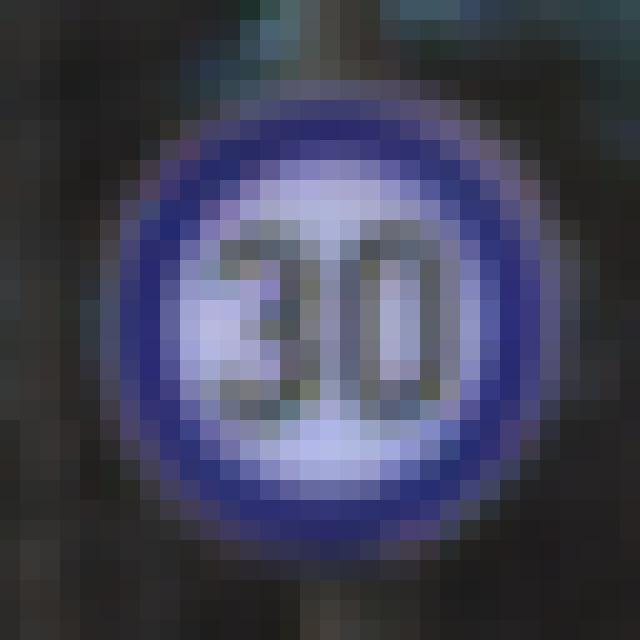SPEED LIMIT 30: (104, 97, 566, 558)
